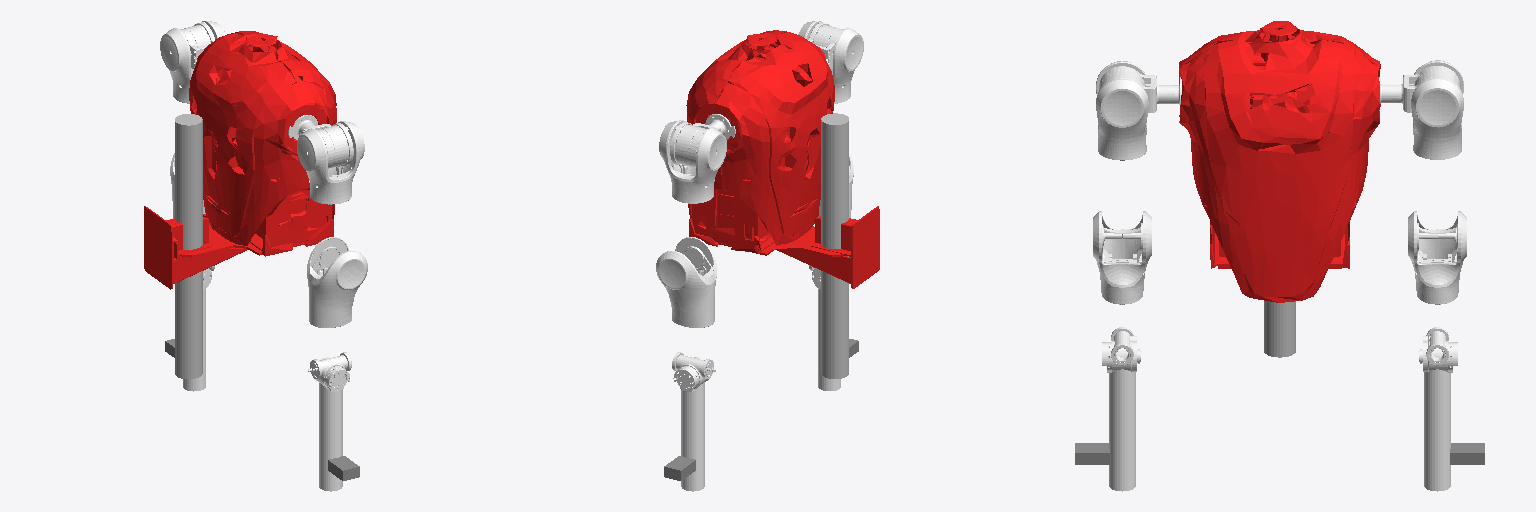
URDF robot description (urdf_arm):
<?xml version="1.0" encoding="utf-8"?>
<!-- This URDF was automatically created by SolidWorks to URDF Exporter! Originally created by [author] ([email redacted]) 
     Commit Version: 1.6.0-1-g15f4949  Build Version: 1.6.7594.29634
     For more information, please see http://wiki.ros.org/sw_urdf_exporter -->
<robot
  name="urdf_arm">
  <link name="lifter">
    <visual>
      <origin xyz="-0.2 0 0" rpy="0.0 0.0 0.0" />
      <geometry>
        <cylinder radius="0.03" length="0.6"/>
      </geometry>
      <material name="">
        <color rgba="0.8 0.8 0.8 1"/>
      </material>
    </visual>
    <collision>
      <origin xyz="-0.2 0 0" rpy="0.0 0.0 0.0" />
      <geometry>
        <cylinder radius="0.03" length="0.6"/>
      </geometry>
    </collision>
  </link>

  <joint name="lifter" type="prismatic">
    <origin xyz="0 0 0" rpy="0 0 0"/>
    <parent link="lifter"/>
    <child link="urdf_arm"/>
    <axis xyz="0 0 1"/>
    <limit lower="-0.3" upper="0.3" effort="1000" velocity="1.0"/>
  </joint>

  <link
    name="urdf_arm">
    <inertial>
      <origin
        xyz="-0.0174875527558622 0.00179910750290237 0.210012561233673"
        rpy="0 0 0" />
      <mass
        value="5.14039351525955" />
      <inertia
        ixx="0.0499222359614081"
        ixy="-1.45737146282782E-06"
        ixz="0.000941479736923806"
        iyy="0.0373806752216079"
        iyz="-1.04144812553937E-05"
        izz="0.0330605392668542" />
    </inertial>
    <visual>
      <origin
        xyz="0 0 0"
        rpy="0 0 0" />
      <geometry>
        <mesh
          filename="../meshes/urdf_arm.obj" />
      </geometry>
      <material
        name="">
        <color
          rgba="1 0.168627450980392 0.168627450980392 1" />
      </material>
    </visual>
    <collision>
      <origin
        xyz="0 0 0.13"
        rpy="0 0 0" />
      <geometry>
        <!-- <box size="0.18 0.25 0.3 " /> -->
        <cylinder radius="0.13" length="0.3" />
      </geometry>
    </collision>
  </link>
  <link
    name="l_arm_pitch">
    <inertial>
      <origin
        xyz="-0.000828036869570527 -0.0221807377225874 0.000355413431685492"
        rpy="0 0 0" />
      <mass
        value="0.18413596718146" />
      <inertia
        ixx="0.00030820846006233"
        ixy="-3.38787209124798E-05"
        ixz="-4.35868313915032E-07"
        iyy="0.000119962851844466"
        iyz="-2.15026055530379E-06"
        izz="0.000244415780049331" />
    </inertial>
    <visual>
      <origin
        xyz="0 0 0"
        rpy="0 0 0" />
      <geometry>
        <mesh
          filename="../meshes/l_arm_pitch.obj" />
      </geometry>
      <material
        name="">
        <color
          rgba="1 1 1 1" />
      </material>
    </visual>
    <collision>
      <origin
        xyz="0 -0.05 0"
        rpy="-1.57 0 0" />
      <geometry>
        <cylinder radius="0.05" length="0.12" />
      </geometry>
    </collision>
  </link>
  <joint
    name="l_arm_pitch"
    type="revolute">
    <origin
      xyz="-0.0174999999999994 0.2927 0.31039624162447"
      rpy="0 0 0" />
    <parent
      link="urdf_arm" />
    <child
      link="l_arm_pitch" />
    <axis
      xyz="0 1 0" />
    <limit lower="-3.14" upper="1.57" effort="0.5" velocity="9" />
  </joint>
  <link
    name="l_arm_roll">
    <inertial>
      <origin
        xyz="-0.00791081502583302 -4.96921134152117E-06 -0.0454483133121535"
        rpy="0 0 0" />
      <mass
        value="0.207464613400312" />
      <inertia
        ixx="0.000457439178313935"
        ixy="-4.58278097382517E-09"
        ixz="1.03161950452115E-05"
        iyy="0.000364197308404399"
        iyz="2.2443394457752E-08"
        izz="0.00017446951099124" />
    </inertial>
    <visual>
      <origin
        xyz="0 0 0"
        rpy="0 0 0" />
      <geometry>
        <mesh
          filename="../meshes/l_arm_roll.obj" />
      </geometry>
      <material
        name="">
        <color
          rgba="1 1 1 1" />
      </material>
    </visual>
    <collision>
      <origin
        xyz="0 0 -0.05"
        rpy="0 0 0" />
      <geometry>
        <cylinder radius="0.05" length="0.13" />
      </geometry>
    </collision>
  </link>
  <joint
    name="l_arm_roll"
    type="revolute">
    <origin
      xyz="0 0 0"
      rpy="0 0 0" />
    <parent
      link="l_arm_pitch" />
    <child
      link="l_arm_roll" />
    <axis
      xyz="1 0 0" />
    <limit lower="-0.3489" upper="2.0933" effort="1.5" velocity="9" />
  </joint>
  <link
    name="l_arm_yaw">
    <inertial>
      <origin
        xyz="0.00628273945084577 0.0010686695168643 -0.207672767706963"
        rpy="0 0 0" />
      <mass
        value="0.481289525596781" />
      <inertia
        ixx="0.00105282291023882"
        ixy="-1.06576401996613E-06"
        ixz="9.28124103755373E-05"
        iyy="0.001047234049051"
        iyz="-4.63917811736568E-06"
        izz="0.000346148131521566" />
    </inertial>
    <visual>
      <origin
        xyz="0 0 0"
        rpy="0 0 0" />
      <geometry>
        <mesh
          filename="../meshes/l_arm_yaw.obj" />
      </geometry>
      <material
        name="">
        <color
          rgba="1 1 1 1" />
      </material>
    </visual>
    <collision>
      <origin
        xyz="0 0 -0.19"
        rpy="0 0 0" />
      <geometry>
        <cylinder radius="0.05" length="0.15" />
      </geometry>
    </collision>
  </link>
  <joint
    name="l_arm_yaw"
    type="revolute">
    <origin
      xyz="0 0 0"
      rpy="0 0 0" />
    <parent
      link="l_arm_roll" />
    <child
      link="l_arm_yaw" />
    <axis
      xyz="0 0 1" />
    <limit lower="-1.57" upper="1.57" effort="2.5" velocity="9" />
  </joint>
  <link
    name="l_foream">
    <inertial>
      <origin
        xyz="-0.0161081770518705 0.0014341951956906 -0.048559738798195"
        rpy="0 0 0" />
      <mass
        value="0.2234980315587" />
      <inertia
        ixx="0.000378810354788798"
        ixy="-2.16486964427839E-07"
        ixz="-4.15629996863637E-05"
        iyy="0.000498964424337024"
        iyz="1.25133995027467E-07"
        izz="0.000202125207411073" />
    </inertial>
    <visual>
      <origin
        xyz="0 0 0"
        rpy="0 0 0" />
      <geometry>
        <mesh
          filename="../meshes/l_foream.obj" />
      </geometry>
      <material
        name="">
        <color
          rgba="1 1 1 1" />
      </material>
    </visual>
    <collision>
      <origin
        xyz="-0.005 0 0"
        rpy="0 0 0" />
      <geometry>
        <sphere radius="0.07" />
      </geometry>
    </collision>
  </link>
  <joint
    name="l_foream"
    type="revolute">
    <origin
      xyz="0.0199999999999956 0 -0.282596241624469"
      rpy="0 0 0" />
    <parent
      link="l_arm_yaw" />
    <child
      link="l_foream" />
    <axis
      xyz="0 1 0" />
    <!-- <limit lower="-2.62" upper="0.01" effort="0" velocity="0" /> -->
    <limit lower="-2.62" upper="1.57" effort="0.95" velocity="9" />
  </joint>
  <link
    name="l_hand_yaw">
    <inertial>
      <origin
        xyz="-0.00207265357096991 0.000180849460126531 -0.0507949618718358"
        rpy="0 0 0" />
      <mass
        value="0.17513838759913" />
      <inertia
        ixx="0.000227384843308136"
        ixy="2.26341283603265E-07"
        ixz="-2.2459745379831E-06"
        iyy="0.000195922865316427"
        iyz="1.59530474488699E-09"
        izz="9.47040764933854E-05" />
    </inertial>
    <visual>
      <origin
        xyz="0 0 0"
        rpy="0 0 0" />
      <geometry>
        <mesh
          filename="../meshes/l_hand_yaw.obj" />
      </geometry>
      <material
        name="">
        <color
          rgba="1 1 1 1" />
      </material>
    </visual>
    <collision>
      <origin
        xyz="-0.005 0 -0.02"
        rpy="0 0 0" />
      <geometry>
        <cylinder radius="0.055" length="0.22" />
      </geometry>
    </collision>
  </link>
  <joint
    name="l_hand_yaw"
    type="revolute">
    <origin
      xyz="-0.019999999999996 0 -0.127037274261587"
      rpy="0 0 0" />
    <parent
      link="l_foream" />
    <child
      link="l_hand_yaw" />
    <axis
      xyz="0 0 1" />
    <limit lower="-1.57" upper="1.57" effort="4.5" velocity="9" />
  </joint>
  <link
    name="l_hand_roll">
    <inertial>
      <origin
        xyz="-0.00111109841505431 0.00325853543002191 -0.0133761737277522"
        rpy="0 0 0" />
      <mass
        value="0.0840144468109417" />
      <inertia
        ixx="2.64319545735977E-05"
        ixy="1.66499416484449E-07"
        ixz="2.31962316274296E-07"
        iyy="4.53647430396972E-05"
        iyz="-1.02153813459502E-06"
        izz="3.38453744858053E-05" />
    </inertial>
    <visual>
      <origin
        xyz="0 0 0"
        rpy="0 0 0" />
      <geometry>
        <mesh
          filename="../meshes/l_hand_roll.obj" />
      </geometry>
      <material
        name="">
        <color
          rgba="1 1 1 1" />
      </material>
    </visual>
    <collision>
      <origin
        xyz="0 0 0.005"
        rpy="0 0 0" />
      <geometry>
        <sphere radius="0.055" />
      </geometry>
    </collision>
  </link>
  <joint
    name="l_hand_roll"
    type="revolute">
    <origin
      xyz="0.000199999999998968 0 -0.106462725738415"
      rpy="0 0 0" />
    <parent
      link="l_hand_yaw" />
    <child
      link="l_hand_roll" />
    <axis
      xyz="1 0 0" />
    <limit lower="-1.31" upper="0.7" effort="6.5" velocity="9" />
  </joint>
  <link
    name="l_hand_pitch">
    <inertial>
      <origin
        xyz="-2.91341173062759E-05 0.000381425230524535 -0.0798741942840195"
        rpy="0 0 0" />
      <mass
        value="0.128051594937832" />
      <inertia
        ixx="4.95125209088465E-05"
        ixy="2.08655267137498E-09"
        ixz="-1.29921051281919E-09"
        iyy="7.22421194195814E-05"
        iyz="-3.91599991645418E-06"
        izz="5.8386775532484E-05" />
    </inertial>
    <visual>
      <origin
        xyz="0 0 -0.1325"
        rpy="0 0 0" />
      <geometry>
            <cylinder radius="0.025" length="0.265" />
      </geometry>
      <material
        name="">
        <color
          rgba="1 1 1 1" />
      </material>
    </visual>
    <collision>
      <origin
        xyz="0 0 -0.1325"
        rpy="0 0 0" />
      <geometry>
            <cylinder radius="0.025" length="0.265" />
      </geometry>
    </collision> 
  </link>
  <joint
    name="l_hand_pitch"
    type="revolute">
    <origin
      xyz=" 0 0 -0.0209999999999993"
      rpy="0 0 0" />
    <parent
      link="l_hand_roll" />
    <child
      link="l_hand_pitch" />
    <axis
      xyz="0 1 0" />
    <limit lower="-0.7" upper="0.7" effort="5.5" velocity="9" />
  </joint>

  <link
    name="r_arm_pitch">
    <inertial>
      <origin
        xyz="-0.000828070382794768 0.0221803805437029 0.000355413431685492"
        rpy="0 0 0" />
      <mass
        value="0.184136359575287" />
      <inertia
        ixx="0.000308207241858544"
        ixy="3.38785928990623E-05"
        ixz="-4.35759192373431E-07"
        iyy="0.000119956509845959"
        iyz="2.14753035902003E-06"
        izz="0.000244420930812077" />
    </inertial>
    <visual>
      <origin
        xyz="0 0 0"
        rpy="0 0 0" />
      <geometry>
        <mesh
          filename="../meshes/r_arm_pitch.obj" />
      </geometry>
      <material
        name="">
        <color
          rgba="1 1 1 1" />
      </material>
    </visual>
    <collision>
      <origin
        xyz="0 0.05 0"
        rpy="1.57 0 0" />
      <geometry>
        <cylinder radius="0.05" length="0.12" />
      </geometry>
    </collision>
  </link>
  <joint
    name="r_arm_pitch"
    type="revolute">
    <origin
      xyz="-0.0174999999999994 -0.2927 0.31039624162447"
      rpy="0 0 0" />
    <parent
      link="urdf_arm" />
    <child
      link="r_arm_pitch" />
    <axis
      xyz="0 1 0" />
    <limit lower="-3.14" upper="1.57" effort="7.5" velocity="9" />
  </joint>
  <link
    name="r_arm_roll">
    <inertial>
      <origin
        xyz="-0.00790852470961278 -4.96921134152117E-06 -0.0454483133121535"
        rpy="0 0 0" />
      <mass
        value="0.207468176547282" />
      <inertia
        ixx="0.000457439178313935"
        ixy="-4.58278097382517E-09"
        ixz="1.03161950452115E-05"
        iyy="0.000364197308404399"
        iyz="2.2443394457752E-08"
        izz="0.00017446951099124" />
    </inertial>
    <visual>
      <origin
        xyz="0 0 0"
        rpy="0 0 0" />
      <geometry>
        <mesh
          filename="../meshes/r_arm_roll.obj" />
      </geometry>
      <material
        name="">
        <color
          rgba="1 1 1 1" />
      </material>
    </visual>
    <collision>
      <origin
        xyz="0 0 -0.05"
        rpy="0 0 0" />
      <geometry>
        <cylinder radius="0.05" length="0.13" />
      </geometry>
    </collision>
  </link>
  <joint
    name="r_arm_roll"
    type="revolute">
    <origin
      xyz="0 0 0"
      rpy="0 0 0" />
    <parent
      link="r_arm_pitch" />
    <child
      link="r_arm_roll" />
    <axis
      xyz="1 0 0" />
    <limit
      lower="-2.09"
      upper="0.349"
      effort="8.5"
      velocity="9" />
  </joint>
  <link
    name="r_arm_yaw">
    <inertial>
      <origin
        xyz="0.00628273945084577 0.0010686695168643 -0.207672767706963"
        rpy="0 0 0" />
      <mass
        value="0.481293484952825" />
      <inertia
        ixx="0.00105282558432735"
        ixy="1.05276851232576E-06"
        ixz="9.28171933199159E-05"
        iyy="0.00104723759220182"
        iyz="4.6345481241257E-06"
        izz="0.000346154688267995" />
    </inertial>
    <visual>
      <origin
        xyz="0 0 0"
        rpy="0 0 0" />
      <geometry>
        <mesh
          filename="../meshes/r_arm_yaw.obj" />
      </geometry>
      <material
        name="">
        <color
          rgba="1 1 1 1" />
      </material>
    </visual>
    <collision>
      <origin
        xyz="0 0 -0.19"
        rpy="0 0 0" />
      <geometry>
        <cylinder radius="0.05" length="0.15" />
      </geometry>
    </collision>
  </link>
  <joint
    name="r_arm_yaw"
    type="revolute">
    <origin
      xyz="0 0 0"
      rpy="0 0 0" />
    <parent
      link="r_arm_roll" />
    <child
      link="r_arm_yaw" />
    <axis
      xyz="0 0 1" />
      <limit lower="-1.57" upper="1.57" effort="2.5" velocity="9" />
  </joint>
  <link
    name="r_foream">
    <inertial>
      <origin
        xyz="-0.0161078686898049 -0.00142702216013446 -0.0485634479520254"
        rpy="0 0 0" />
      <mass
        value="0.223463041894529" />
      <inertia
        ixx="0.000378818781706887"
        ixy="2.3190122532932E-07"
        ixz="-4.15645431273828E-05"
        iyy="0.000498968224963291"
        iyz="-1.22001481514792E-07"
        izz="0.000202123697751054" />
    </inertial>
    <visual>
      <origin
        xyz="0 0 0"
        rpy="0 0 0" />
      <geometry>
        <mesh
          filename="../meshes/r_foream.obj" />
      </geometry>
      <material
        name="">
        <color
          rgba="1 1 1 1" />
      </material>
    </visual>
    <collision>
      <origin
        xyz="-0.005 0 0"
        rpy="0 0 0" />
      <geometry>
        <sphere radius="0.07" />
      </geometry>
    </collision>
  </link>
  <joint
    name="r_foream"
    type="revolute">
    <origin
      xyz="0.0199999999999956 0 -0.282596241624469"
      rpy="0 0 0" />
    <parent
      link="r_arm_yaw" />
    <child
      link="r_foream" />
    <axis
      xyz="0 1 0" />
    <!-- <limit lower="-2.62" upper="0.01" effort="0" velocity="0" /> -->
    <limit lower="-2.62" upper="1.57" effort="0.95" velocity="9" />
  </joint>
  <link
    name="r_hand_yaw">
    <inertial>
      <origin
        xyz="-0.00206628806745379 -0.000180941910907839 -0.0507968280945797"
        rpy="0 0 0" />
      <mass
        value="0.17515117163577" />
      <inertia
        ixx="0.000227396727945047"
        ixy="-2.24147344266167E-07"
        ixz="-2.24496749295539E-06"
        iyy="0.000195931521293021"
        iyz="-4.92996655381385E-09"
        izz="9.47062987496784E-05" />
    </inertial>
    <visual>
      <origin
        xyz="0 0 0"
        rpy="0 0 0" />
      <geometry>
        <mesh
          filename="../meshes/r_hand_yaw.obj" />
      </geometry>
      <material
        name="">
        <color
          rgba="1 1 1 1" />
      </material>
    </visual>
    <collision>
      <origin
        xyz="-0.005 0 -0.02"
        rpy="0 0 0" />
      <geometry>
        <cylinder radius="0.055" length="0.22" />
      </geometry>

    </collision>
  </link>
  <joint
    name="r_hand_yaw"
    type="revolute">
    <origin
      xyz="-0.019999999999996 0 -0.127037274261587"
      rpy="0 0 0" />
    <parent
      link="r_foream" />
    <child
      link="r_hand_yaw" />
    <axis
      xyz="0 0 1" />
    <limit lower="-1.57" upper="1.57" effort="11.5" velocity="9" />
  </joint>
  <link
    name="r_hand_roll">
    <inertial>
      <origin
        xyz="-0.00111102295591413 -0.00325842912832869 -0.0133762121197154"
        rpy="0 0 0" />
      <mass
        value="0.0840150150336956" />
      <inertia
        ixx="2.64321656840486E-05"
        ixy="-1.66459675085631E-07"
        ixz="2.32613802973805E-07"
        iyy="4.53653859741049E-05"
        iyz="1.02156140922168E-06"
        izz="3.38461834268271E-05" />
    </inertial>
    <visual>
      <origin
        xyz="0 0 0"
        rpy="0 0 0" />
      <geometry>
        <mesh
          filename="../meshes/r_hand_roll.obj" />
      </geometry>
      <material
        name="">
        <color
          rgba="1 1 1 1" />
      </material>
    </visual>
    <collision>
      <origin
        xyz="0 0 0.005"
        rpy="0 0 0" />
      <geometry>
        <sphere radius="0.055" />
      </geometry>
    </collision>
  </link>
  <joint
    name="r_hand_roll"
    type="revolute">
    <origin
      xyz="0.000199999999998968 0 -0.106462725738415"
      rpy="0 0 0" />
    <parent
      link="r_hand_yaw" />
    <child
      link="r_hand_roll" />
    <axis
      xyz="1 0 0" />
    <limit lower="-0.7" upper="1.308" effort="6.5" velocity="9" />

  </joint>
  <link
    name="r_hand_pitch">
    <inertial>
      <origin
        xyz="-2.91341173062759E-05 -0.000381425230524535 -0.0798741942840195"
        rpy="0 0 0" />
      <mass
        value="0.12862305361007" />
      <inertia
        ixx="4.95150346726562E-05"
        ixy="2.08461746311682E-09"
        ixz="1.29900305264038E-09"
        iyy="7.22443466755961E-05"
        iyz="3.91600058100291E-06"
        izz="5.83907592429026E-05" />
    </inertial>
    <visual>
      <origin
        xyz="0 0 -0.1325"
        rpy="0 0 0" />
      <geometry>
            <cylinder radius="0.025" length="0.265" />
      </geometry>

      <material
        name="">
        <color
          rgba="1 1 1 1" />
      </material>

    </visual>
    <collision>
      <origin
        xyz="0 0 -0.1325"
        rpy="0 0 0" />
      <geometry>
            <cylinder radius="0.025" length="0.265" />
      </geometry>
    </collision> 
  </link>

  <joint
    name="r_hand_pitch"
    type="revolute">
    <origin
      xyz="0 0 -0.0209999999999999"
      rpy="0 0 0" />
    <parent
      link="r_hand_roll" />
    <child
      link="r_hand_pitch" />
    <axis
      xyz="0 1 0" />
    <limit lower="-0.7" upper="0.7" effort="12.5" velocity="9" />
    <!-- <limit lower="-1.57" upper="1.57" effort="12.5" velocity="9" /> -->
  </joint>

  <link name='l_camera'>
    <visual>
      <geometry>
        <box size="0.065 0.042 0.025"/>
      </geometry>
      <origin xyz="0 0 0" rpy="0 0 0"/>
      <material >
        <color rgba="0.6 0.6 0.6 1"/>
      </material>
    </visual>
    <collision>
      <geometry>
        <box size="0.065 0.042 0.025"/>
      </geometry>
      <origin xyz="0 0 0" rpy="0 0 0"/>
      <material >
        <color rgba="0.6 0.6 0.6 1"/>
      </material>
    </collision>
  </link>

  <joint name='l_camera' type='fixed'>
    <origin xyz="0 0.055 -0.2" rpy="0 -0 1.57"/>
    <parent link="l_hand_pitch"/>
    <child link="l_camera"/>
  </joint>

  <link name='r_camera'>
    <visual>
      <geometry>
        <box size="0.065 0.042 0.025"/>
      </geometry>
      <origin xyz="0 0 -0" rpy="0 -0 0"/>
      <material >
        <color rgba="0.6 0.6 0.6 1"/>
      </material>
    </visual>
    <collision>
      <geometry>
        <box size="0.065 0.042 0.025"/>
      </geometry>
      <origin xyz="0 0 0" rpy="0 -0 0"/>
      <material >
        <color rgba="0.6 0.6 0.6 1"/>
      </material>
    </collision>
  </link>

  <joint 
    name='r_camera'
    type='fixed'
  >
    <origin xyz="0 -0.055 -0.2" rpy="0 -0 -1.57"/>
    <parent link="r_hand_pitch"/>
    <child link="r_camera"/>
  </joint>

</robot> 

--- Facts derived from the render (not from the file) ---
The picture shows the robot from 3 angles, left to right: view 1: azimuth 30°, elevation 25°; view 2: azimuth 150°, elevation 25°; view 3: azimuth 270°, elevation 25°; orthographic projection.
Model urdf_arm with 18 links and 17 joints (14 revolute, 1 prismatic, 2 fixed), rooted at lifter, posed every joint at zero.
Visible links, largest first — view 1: urdf_arm, lifter, r_foream, r_arm_roll, r_hand_pitch, l_arm_roll, r_arm_pitch, r_hand_roll, l_arm_pitch, r_camera, l_hand_pitch; view 2: urdf_arm, lifter, l_foream, l_arm_roll, l_hand_pitch, r_arm_roll, l_arm_pitch, l_hand_roll, r_arm_pitch, l_camera, r_hand_pitch; view 3: urdf_arm, l_foream, r_foream, l_arm_roll, r_arm_roll, l_hand_pitch, r_hand_pitch, lifter, r_arm_pitch, l_hand_roll, r_hand_roll, l_arm_pitch (+2 smaller).
Boxes of the visible links, left/top/right/bottom form: urdf_arm: left=144, top=31, right=336, bottom=289; lifter: left=175, top=114, right=202, bottom=378; r_foream: left=307, top=237, right=367, bottom=327; r_arm_roll: left=297, top=121, right=364, bottom=204; r_hand_pitch: left=319, top=383, right=342, bottom=491; l_arm_roll: left=160, top=21, right=225, bottom=103; r_arm_pitch: left=288, top=115, right=353, bottom=168; r_hand_roll: left=308, top=352, right=351, bottom=391; l_arm_pitch: left=180, top=22, right=214, bottom=68; r_camera: left=328, top=456, right=359, bottom=480; l_hand_pitch: left=183, top=289, right=205, bottom=391; urdf_arm: left=686, top=30, right=879, bottom=288; lifter: left=821, top=113, right=848, bottom=378; l_foream: left=656, top=237, right=716, bottom=327; l_arm_roll: left=659, top=120, right=726, bottom=203; l_hand_pitch: left=681, top=382, right=704, bottom=491; r_arm_roll: left=798, top=21, right=863, bottom=103; l_arm_pitch: left=670, top=114, right=735, bottom=167; l_hand_roll: left=672, top=352, right=715, bottom=391; r_arm_pitch: left=808, top=22, right=843, bottom=68; l_camera: left=664, top=456, right=695, bottom=480; r_hand_pitch: left=818, top=289, right=840, bottom=390; urdf_arm: left=1179, top=21, right=1380, bottom=302; l_foream: left=1408, top=211, right=1466, bottom=304; r_foream: left=1093, top=211, right=1151, bottom=304; l_arm_roll: left=1411, top=60, right=1463, bottom=159; r_arm_roll: left=1096, top=61, right=1148, bottom=160; l_hand_pitch: left=1424, top=369, right=1450, bottom=491; r_hand_pitch: left=1109, top=369, right=1135, bottom=491; lifter: left=1264, top=301, right=1295, bottom=357; r_arm_pitch: left=1098, top=66, right=1181, bottom=112; l_hand_roll: left=1419, top=327, right=1457, bottom=372; r_hand_roll: left=1102, top=327, right=1140, bottom=372; l_arm_pitch: left=1379, top=66, right=1461, bottom=112.
Bounding box of the posed robot: 0.4028 × 0.7604 × 0.9386 m (x, y, z).
Meshes: 13 distinct files referenced, 9 mesh visuals loaded (9 OBJ); not drawn: 4 (reference not matched to a file when rendering).
